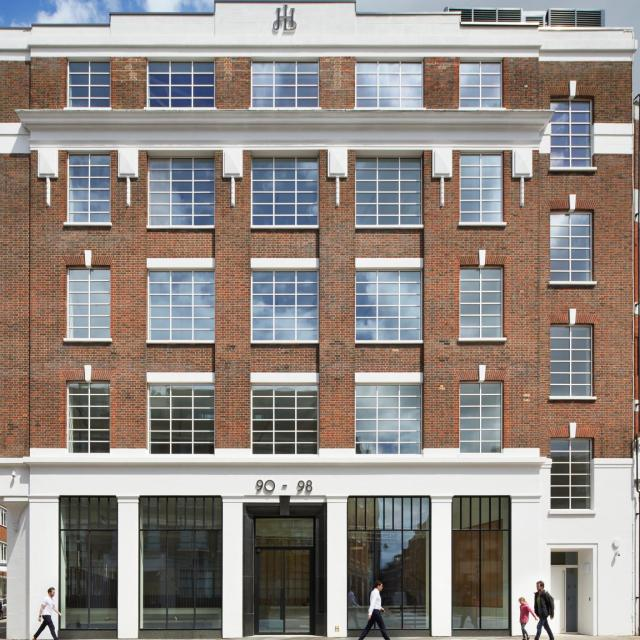door: (254, 543, 314, 637), (550, 562, 579, 636)
window: (141, 498, 220, 636), (349, 497, 428, 635), (56, 497, 118, 635), (454, 496, 515, 634), (252, 266, 318, 342), (147, 157, 213, 233), (148, 384, 216, 454), (356, 272, 424, 342), (251, 385, 318, 455), (147, 272, 214, 341), (357, 385, 425, 452), (356, 155, 421, 223), (254, 158, 318, 226), (250, 61, 318, 109), (355, 63, 423, 111), (65, 268, 112, 337), (148, 60, 216, 107), (66, 152, 110, 224), (550, 441, 593, 510), (549, 327, 592, 396), (550, 211, 593, 280), (551, 100, 594, 169), (68, 381, 110, 450), (460, 383, 502, 451), (460, 268, 502, 336), (462, 153, 504, 221), (459, 59, 503, 107), (68, 62, 111, 107), (256, 516, 316, 544)
